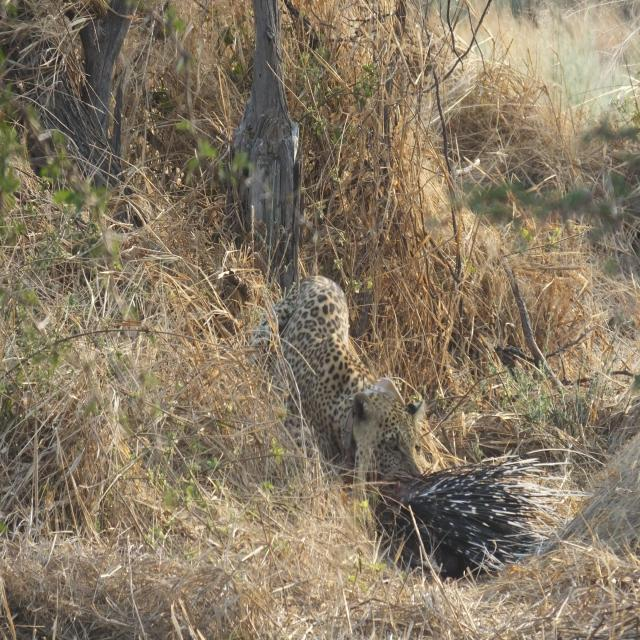Leopard: (264, 264, 410, 512)
